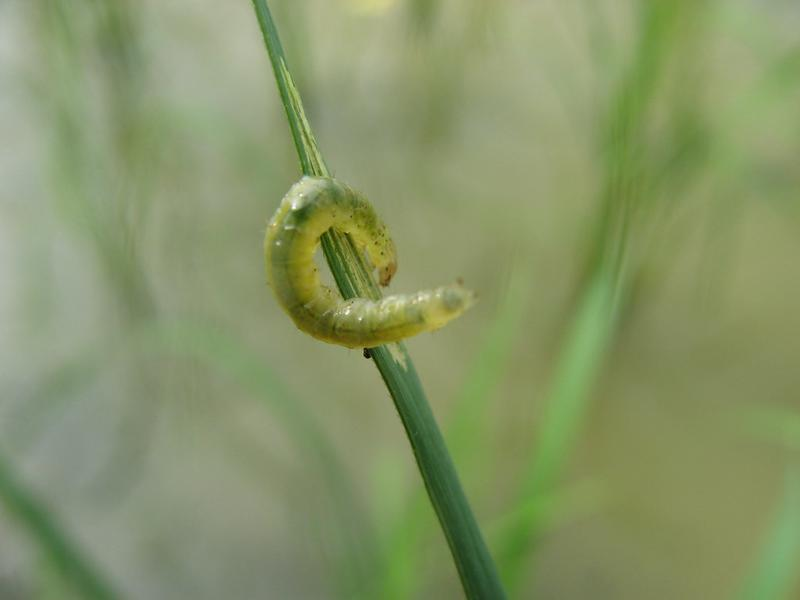Leaf_folder: (242, 170, 478, 369)
